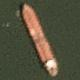ship: (0, 0, 5, 37)
